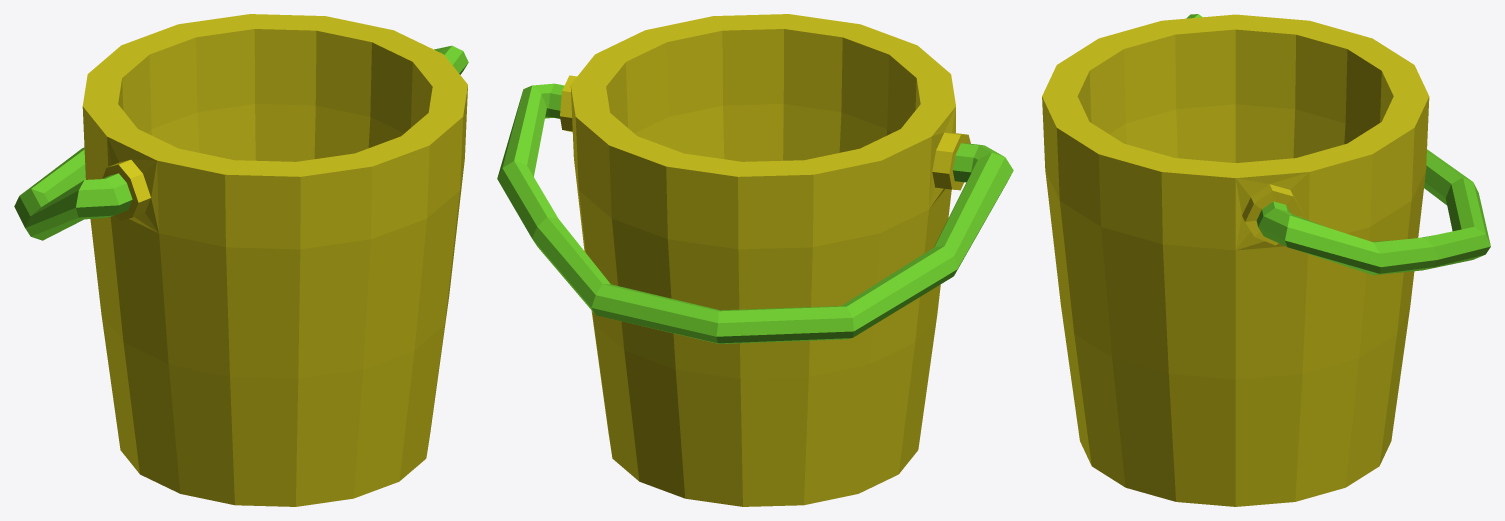
Rendered from bucket.fbx.
3 renders of one model, left to right at view 1: azimuth 30°, elevation 25°; view 2: azimuth 150°, elevation 25°; view 3: azimuth 270°, elevation 25°, orthographic.
Visible parts, largest first — view 1: Sphere; view 2: Sphere; view 3: Sphere.
Part boxes in pixels (x1,y1,x2,y2): Sphere: (14, 14, 468, 506); Sphere: (497, 14, 1013, 506); Sphere: (1042, 14, 1490, 506).
Size of the model in its own units: 142 by 106 by 125.
